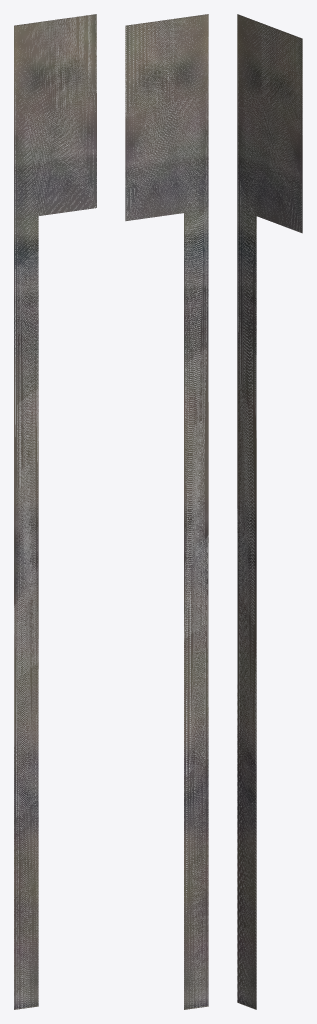
The model's file is 大本钟135.dae.
3 views of the same model, side by side, from view 1: azimuth 30°, elevation 25°; view 2: azimuth 210°, elevation 25°; view 3: azimuth 330°, elevation 25° (orthographic).
Parts seen in each view (by area): view 1: SketchUp; view 2: SketchUp; view 3: SketchUp.
Part boxes in pixels (left/top/right/bottom): SketchUp: left=14, top=14, right=96, bottom=1009; SketchUp: left=125, top=14, right=208, bottom=1009; SketchUp: left=237, top=14, right=302, bottom=1009.
Bounding box in the file's own units: 39.11 × 8.11 × 498.
Materials: 2 (1 with a texture image).
